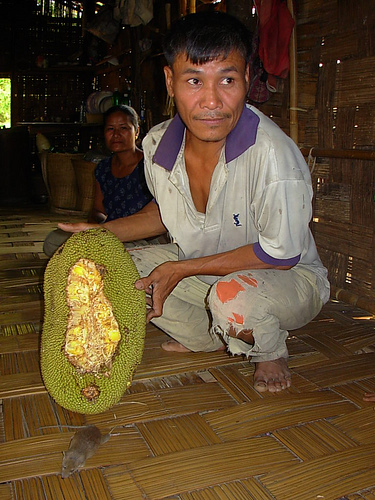jackfruit: (38, 226, 147, 416)
